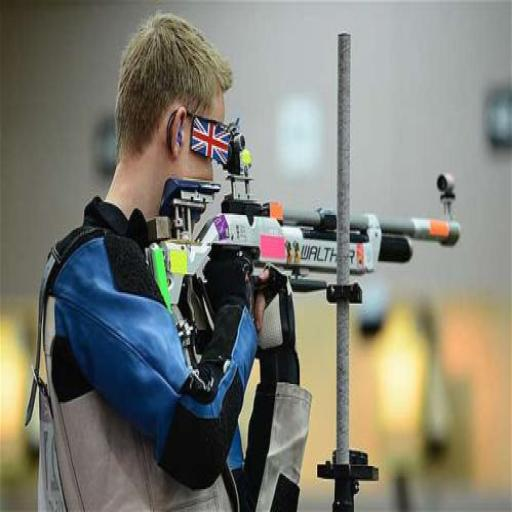shooting: (27, 12, 314, 510)
